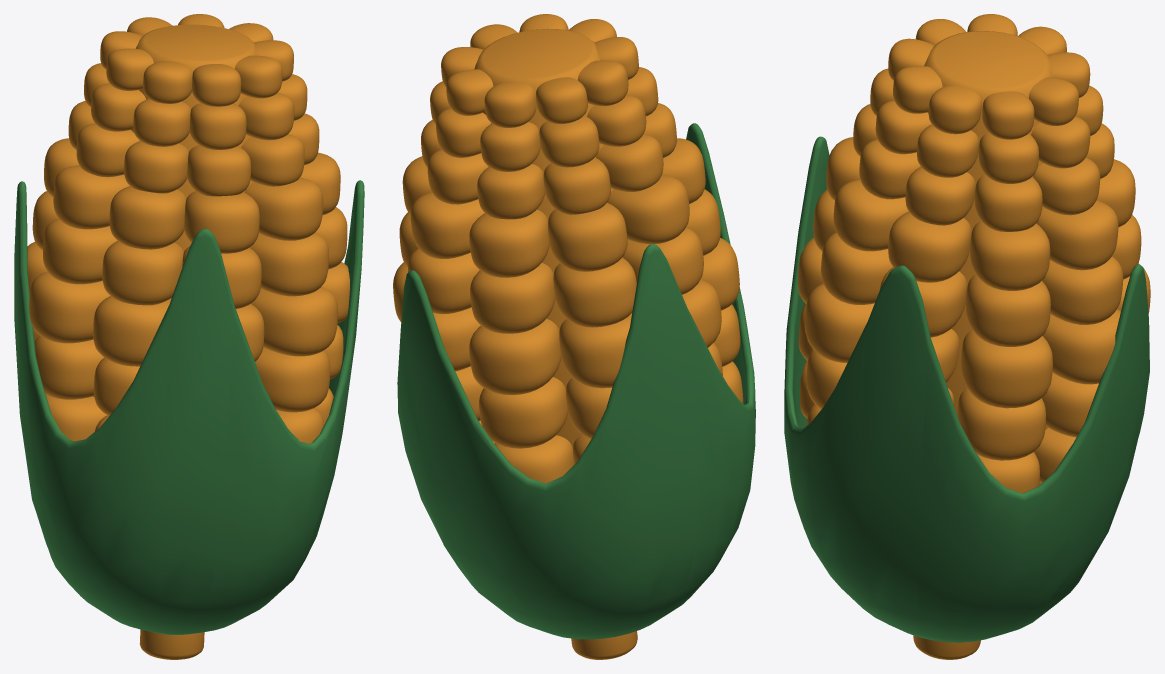
3 views of the same model, side by side, from view 1: azimuth 30°, elevation 25°; view 2: azimuth 150°, elevation 25°; view 3: azimuth 270°, elevation 25° (orthographic). The views are drawn at different scales.
Parts seen in each view (by area): view 1: Sphere.041, Cylinder.110, Cube.074, Cube.063, Cube.071, Cube.054, Cube.065, Cube.072, Cube.083, Cube.056, Cube.055, Cube.062 (+35 smaller); view 2: Sphere.041, Cylinder.110, Cube.069, Cube.060, Cube.078, Cube.061, Cube.051, Cube.052, Cube.053, Cube.070, Cube.050, Cube.114 (+35 smaller); view 3: Sphere.041, Cylinder.110, Cube.067, Cube.058, Cube.049, Cube.076, Cube.048, Cube.059, Cube.050, Cube.068, Cube.056, Cube.065 (+34 smaller).
Part boxes in pixels (bbox=[...]): Sphere.041: bbox=[14, 180, 364, 634]; Cylinder.110: bbox=[93, 24, 263, 396]; Cube.074: bbox=[251, 286, 337, 356]; Cube.063: bbox=[102, 241, 183, 305]; Cube.071: bbox=[29, 272, 110, 343]; Cube.054: bbox=[109, 186, 186, 249]; Cube.065: bbox=[249, 232, 328, 296]; Cube.072: bbox=[93, 296, 171, 366]; Cube.083: bbox=[255, 348, 330, 412]; Cube.056: bbox=[244, 177, 323, 240]; Cube.055: bbox=[184, 191, 259, 253]; Cube.062: bbox=[43, 218, 117, 284]; Sphere.041: bbox=[397, 123, 755, 639]; Cylinder.110: bbox=[474, 28, 613, 447]; Cube.069: bbox=[469, 318, 561, 395]; Cube.060: bbox=[470, 263, 555, 333]; Cube.078: bbox=[479, 377, 567, 448]; Cube.061: bbox=[553, 257, 636, 327]; Cube.051: bbox=[469, 209, 549, 277]; Cube.052: bbox=[548, 202, 627, 271]; Cube.053: bbox=[607, 175, 689, 244]; Cube.070: bbox=[559, 313, 631, 388]; Cube.050: bbox=[410, 192, 484, 258]; Cube.114: bbox=[477, 164, 545, 219]; Sphere.041: bbox=[784, 136, 1149, 642]; Cylinder.110: bbox=[924, 31, 1052, 485]; Cube.067: bbox=[961, 330, 1052, 408]; Cube.058: bbox=[965, 274, 1050, 346]; Cube.049: bbox=[970, 220, 1050, 290]; Cube.076: bbox=[957, 388, 1045, 460]; Cube.048: bbox=[888, 211, 971, 282]; Cube.059: bbox=[1042, 256, 1123, 324]; Cube.050: bbox=[1036, 200, 1118, 270]; Cube.068: bbox=[1042, 309, 1120, 384]; Cube.056: bbox=[833, 179, 908, 251]; Cube.065: bbox=[821, 232, 892, 304].
Size of the model in its own units: 0.2989 by 0.5544 by 0.2959.
